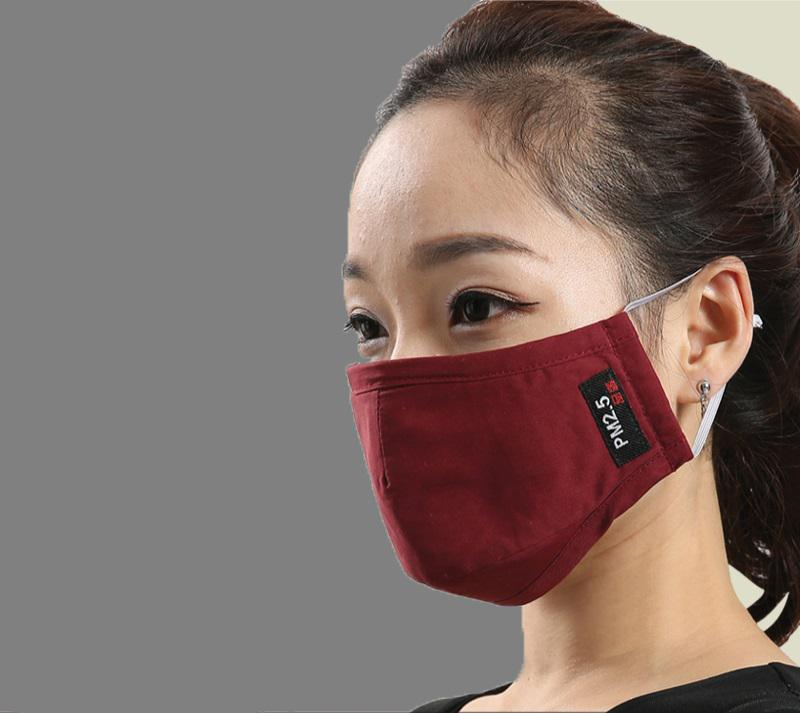OK: (332, 232, 699, 599)
